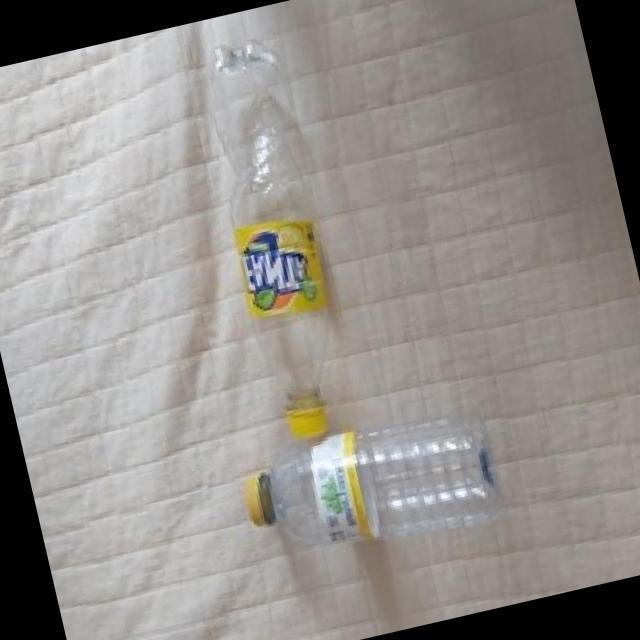good: (177, 28, 370, 449), (224, 400, 514, 574)
